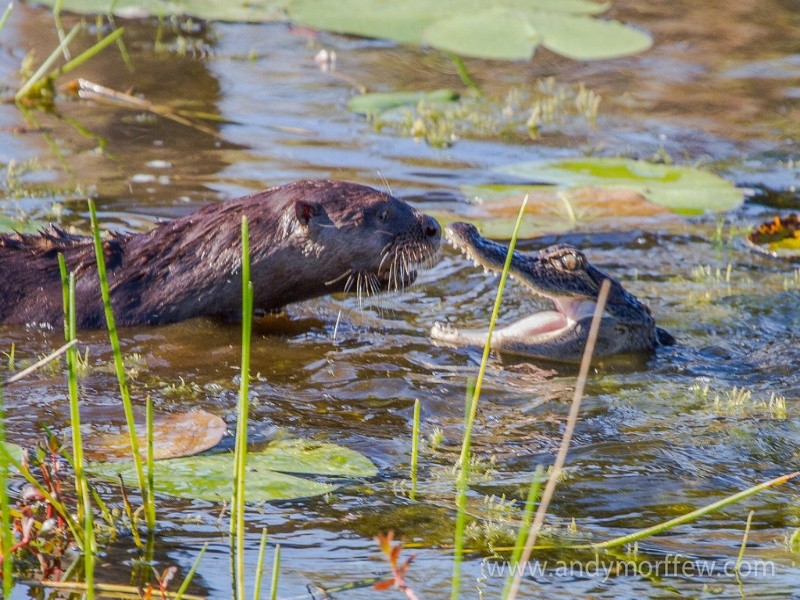minkish: (1, 178, 462, 341)
